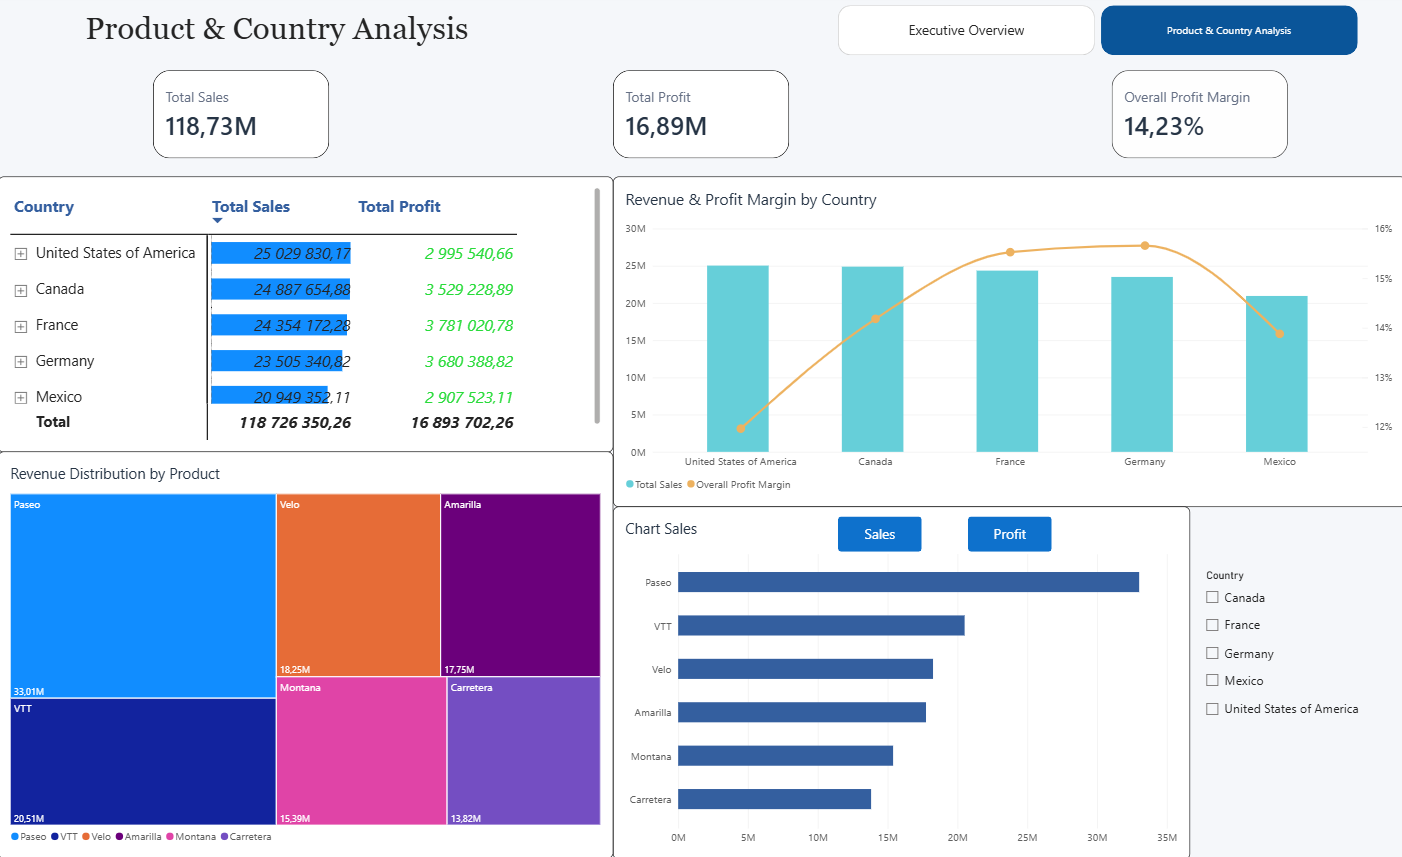

Layout of this report page (visuals, bound fields, positions):
{"tool":"powerbi","page":{"name":"Product & Country Analysis","canvas":[1920,1180],"ordinal":1},"visuals":[{"type":"pivotTable","fields":{"Rows":["CountryRegions.Country","DimProduct.Product"],"Values":["financials (2).Total Sales","financials (2).Total Profit"]},"box":[0,248,838,376],"z":0},{"type":"lineClusteredColumnComboChart","title":"Revenue & Profit Margin by Country","fields":{"Category":["CountryRegions.Country"],"Y":["financials (2).Total Sales"],"Y2":["financials (2).Overall Profit Margin"]},"box":[838,248,1082,450],"z":1000},{"type":"treemap","title":"Revenue Distribution by Product","fields":{"Group":["DimProduct.Product"],"Values":["financials (2).Total Sales"]},"box":[0,624,838,556],"z":2000},{"type":"clusteredBarChart","title":"Chart Sales","fields":{"Category":["DimProduct.Product"],"Y":["financials (2).Total Sales"]},"box":[838,698,786,482],"z":3000},{"type":"actionButton","box":[1144,712,114,48],"z":5000},{"type":"actionButton","box":[1322,712,114,48],"z":6000},{"type":"slicer","fields":{"Values":["CountryRegions.Country"]},"box":[1638,784,248,234],"z":7000},{"type":"pageNavigator","box":[1144,16,708.3,68.3],"z":8000},{"type":"textbox","box":[120,22.5,550,62.5],"z":9000},{"type":"cardVisual","fields":{"Data":["financials (2).Total Sales"]},"box":[210.4,104.4,240,120],"z":10000},{"type":"cardVisual","fields":{"Data":["financials (2).Total Profit"]},"box":[838.4,104.4,240,120],"z":11000},{"type":"cardVisual","fields":{"Data":["financials (2).Overall Profit Margin"]},"box":[1518.4,104.4,240,120],"z":12000}]}

Visuals, with their boxes in screenshot pixels (x1, y1, x2, y2), scaled from the page's 1920x1180 canvas onto the 1402x857 screenshot:
pivotTable - CountryRegions.Country x DimProduct.Product: left=0, top=180, right=612, bottom=453
"Revenue & Profit Margin by Country" lineClusteredColumnComboChart: left=612, top=180, right=1401, bottom=507
"Revenue Distribution by Product" treemap: left=0, top=453, right=612, bottom=856
"Chart Sales" clusteredBarChart: left=612, top=507, right=1186, bottom=856
actionButton: left=835, top=517, right=919, bottom=552
actionButton: left=965, top=517, right=1049, bottom=552
slicer - CountryRegions.Country: left=1196, top=569, right=1377, bottom=739
pageNavigator: left=835, top=12, right=1353, bottom=61
textbox: left=88, top=16, right=489, bottom=62
cardVisual - financials (2).Total Sales: left=154, top=76, right=329, bottom=163
cardVisual - financials (2).Total Profit: left=612, top=76, right=787, bottom=163
cardVisual - financials (2).Overall Profit Margin: left=1109, top=76, right=1284, bottom=163
